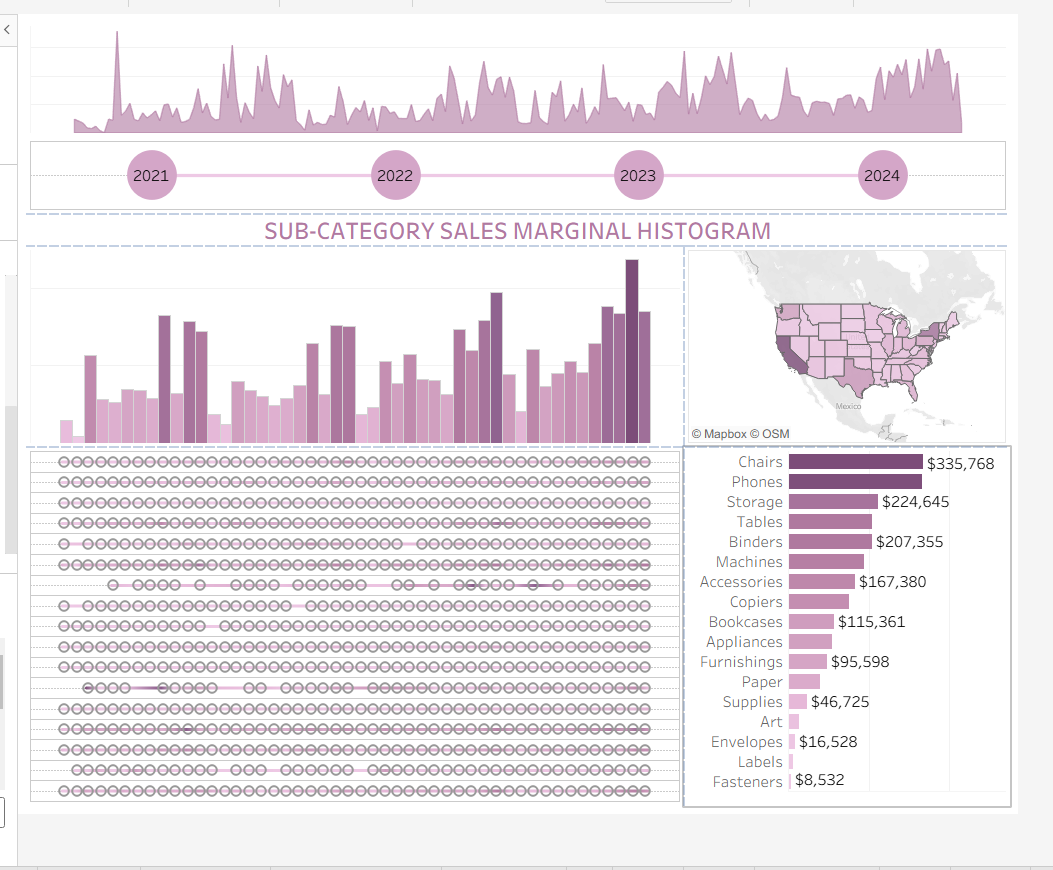

Layout of this report page (visuals, bound fields, positions):
{"tool":"tableau","page":{"name":"Dashboard 2","canvas":[1000,800],"ordinal":1},"visuals":[{"type":"worksheet","title":"Sheet 9","mark":"Area","rows":["Sales"],"cols":["Order Date"],"box":[8,8,984,115]},{"type":"worksheet","title":"Sheet 10","mark":"Automatic","rows":["Calculation_3184607947301011457","Calculation_3184607947301109763"],"cols":["Order Date"],"box":[8,123,984,77]},{"type":"text","box":[8,200,984,32]},{"type":"worksheet","title":"Sheet 11","mark":"Bar","rows":["Sales"],"cols":["Order Date"],"box":[8,232,658,201]},{"type":"worksheet","title":"Sheet 14","mark":"Automatic","box":[666,232,326,201]},{"type":"worksheet","title":"Sheet 12","mark":"Automatic","rows":["Sub-Category","Calculation_3184607947305721861"],"cols":["Order Date","Order Date"],"box":[8,433,658,359]},{"type":"worksheet","title":"Sheet 13","mark":"Automatic","rows":["Sub-Category"],"cols":["Sales"],"box":[666,433,326,359]}]}

Visuals, with their boxes on the page's 1000x800 design canvas (x1, y1, x2, y2). These are canvas units, not pixel positions in the 1053x870 screenshot, which may show the page scaled, cropped or inside an application window:
"Sheet 9" worksheet (Area marks): region(8, 8, 992, 123)
"Sheet 10" worksheet: region(8, 123, 992, 200)
text: region(8, 200, 992, 232)
"Sheet 11" worksheet (Bar marks): region(8, 232, 666, 433)
"Sheet 14" worksheet: region(666, 232, 992, 433)
"Sheet 12" worksheet: region(8, 433, 666, 792)
"Sheet 13" worksheet: region(666, 433, 992, 792)
